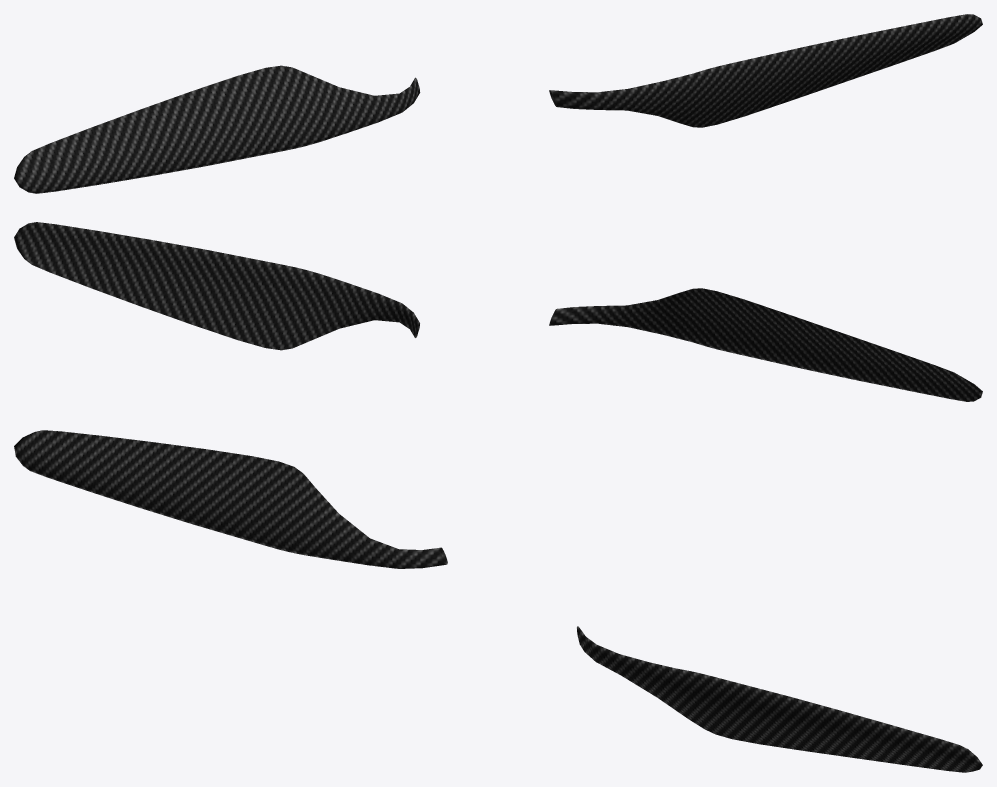
File: p4_prop_right_outer.obj
The picture shows the model from 3 angles, top to bottom: view 1: azimuth 30°, elevation 25°; view 2: azimuth 150°, elevation 25°; view 3: azimuth 330°, elevation 25°; orthographic projection.
Parts seen in each view (by area): view 1: mesh_14_Line036_Material_#51_0, mesh_15_Line037_Material_#51_0; view 2: mesh_15_Line037_Material_#51_0, mesh_14_Line036_Material_#51_0; view 3: mesh_14_Line036_Material_#51_0, mesh_15_Line037_Material_#51_0.
Boxes of the visible parts, <box> form: mesh_14_Line036_Material_#51_0: <box>14,65,420,193</box>; mesh_15_Line037_Material_#51_0: <box>549,14,982,127</box>; mesh_15_Line037_Material_#51_0: <box>14,222,419,350</box>; mesh_14_Line036_Material_#51_0: <box>549,288,982,401</box>; mesh_14_Line036_Material_#51_0: <box>14,430,447,568</box>; mesh_15_Line037_Material_#51_0: <box>577,626,982,772</box>.
Size of the model in its own units: 0.5916 by 0.0975 by 0.0255.
1 material, 1 textured.
